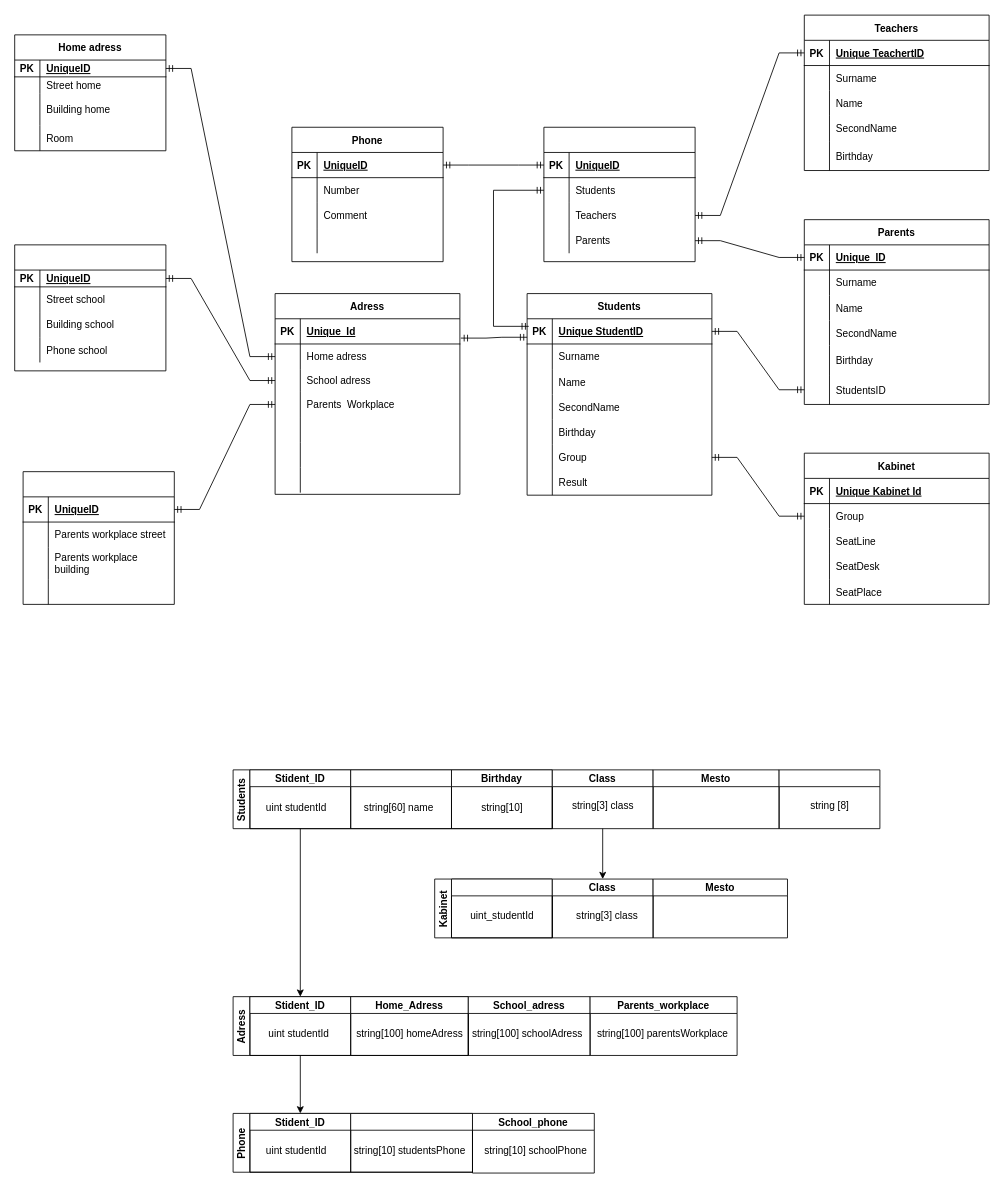
Image size: 1004x1188. Some labels were removed from this diagram. The box of each missing label's shape, as (x1, y1, x2, y2) in pixels:
Class_ID: (451, 878, 552, 938)
FIO: (350, 769, 452, 829)
Parents Work adress: (22, 471, 174, 604)
People: (543, 126, 695, 262)
School information: (14, 244, 166, 371)
Status: (778, 769, 880, 829)
Stunent_phone: (350, 1113, 472, 1172)
